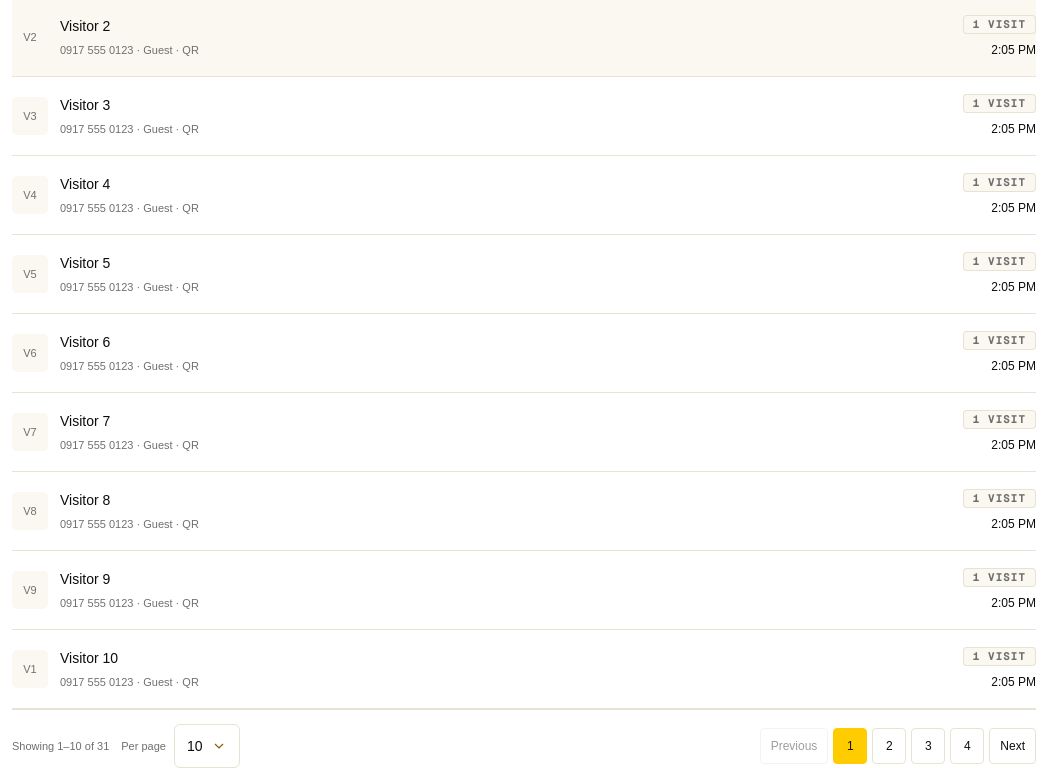
resets to page one when changing the page size
(page scrolled)
Click the button with aria-label "Next check-in page" at (1013, 746), box [989,728,1036,764]
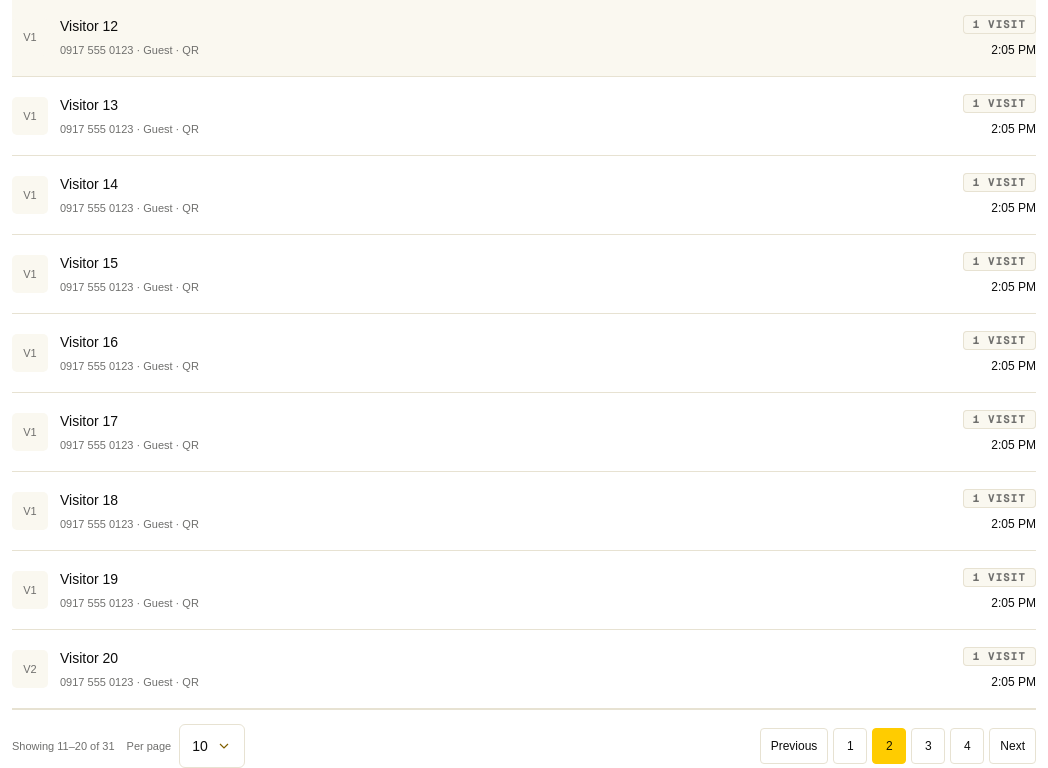
Select "25" in the dropdown labelled "Per page" at (212, 746), box [179,724,245,767]
(page scrolled)
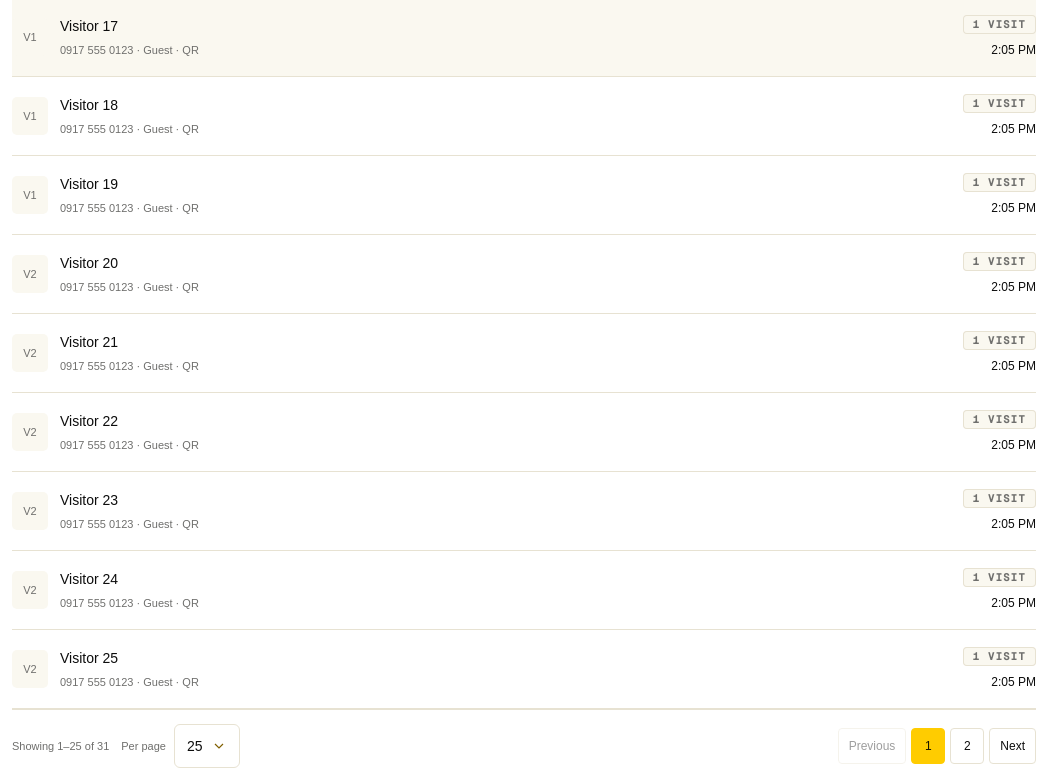
Now the text "Showing 1–25 of 31" is shown, box [12,738,109,754]
Select "5" in the dropdown labelled "Per page" at (207, 746), box [174,724,240,767]
(page scrolled)
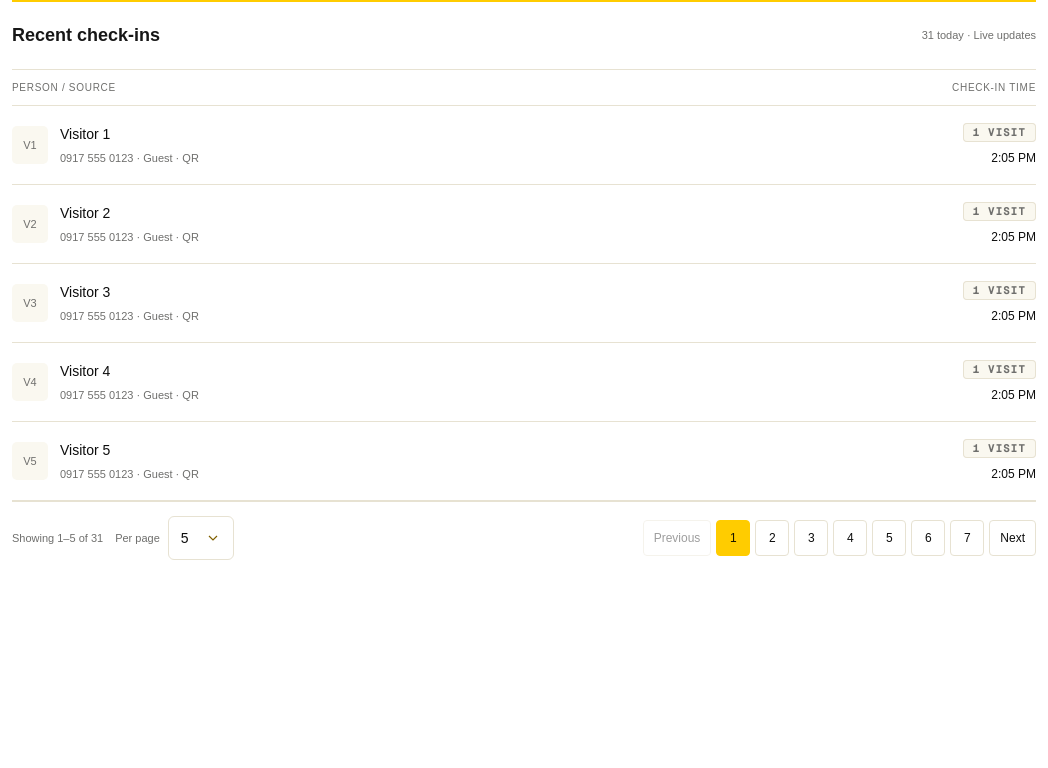
Now the number of links is 5, box [12,106,1036,185]; [12,185,1036,264]; [12,264,1036,343]; [12,343,1036,422]; [12,422,1036,501]
Now the text "Showing 1–5 of 31" is shown, box [12,530,103,546]
